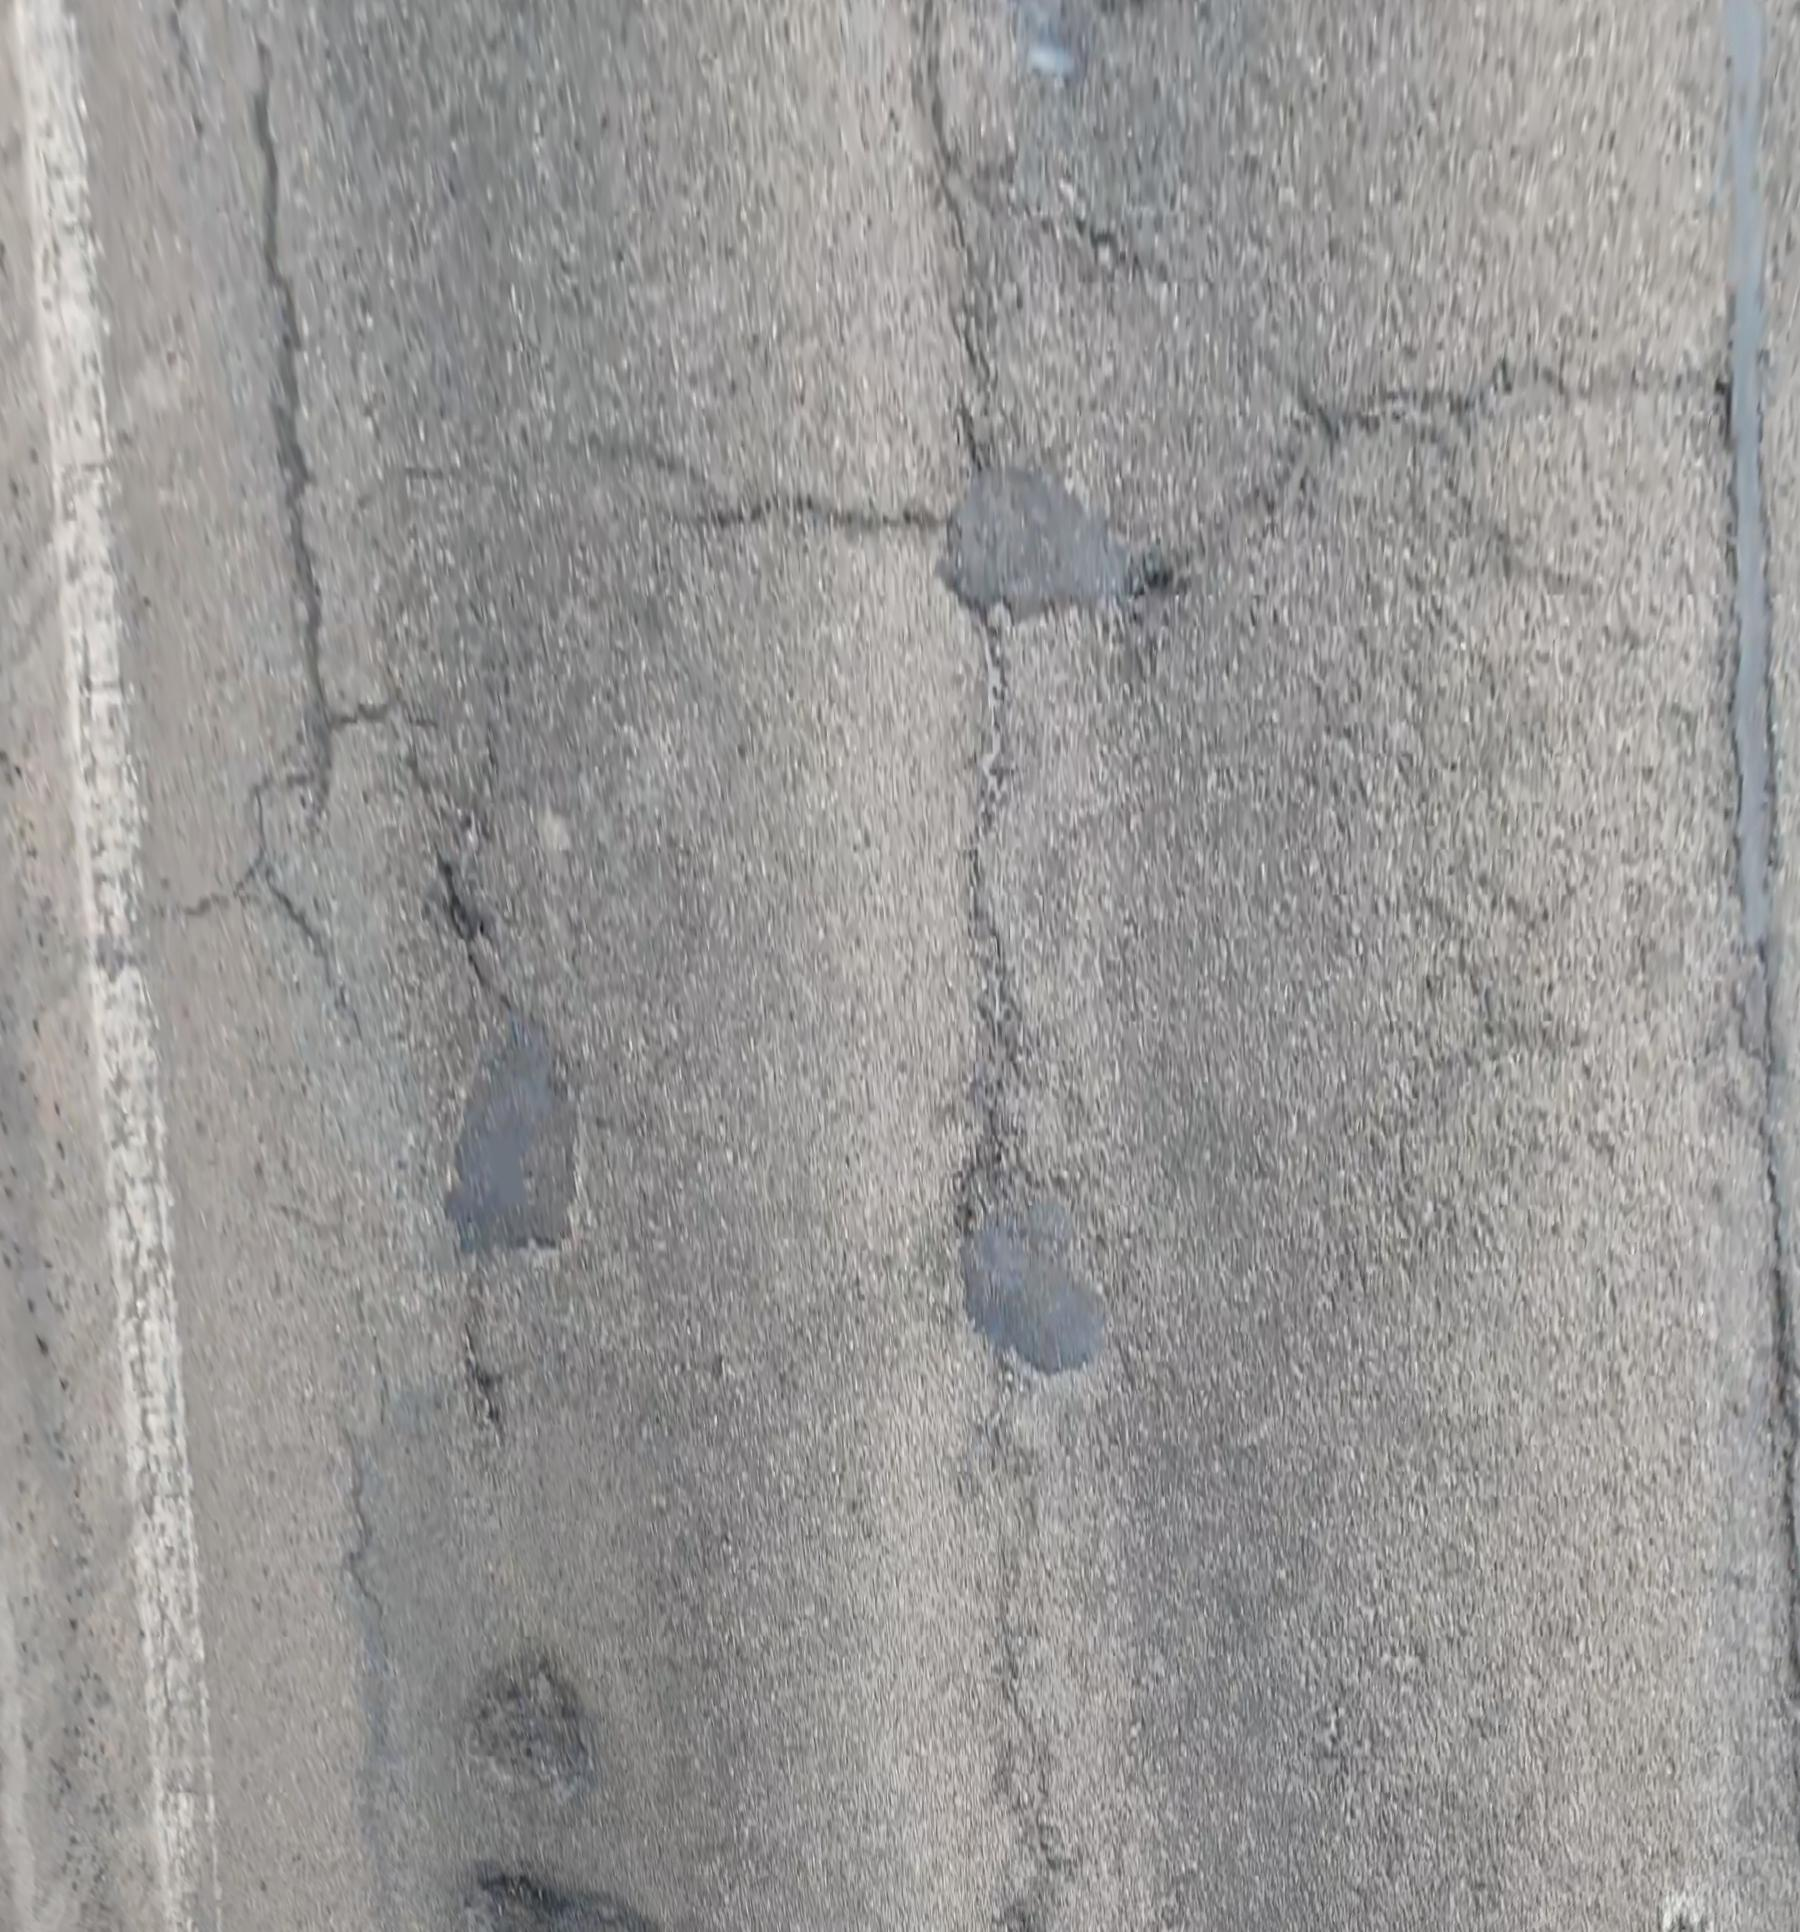pothole: (448, 1651, 597, 1790), (442, 1861, 651, 1930)
pothole_patch_good: (418, 1012, 595, 1257), (934, 467, 1149, 619), (961, 1220, 1117, 1384)
